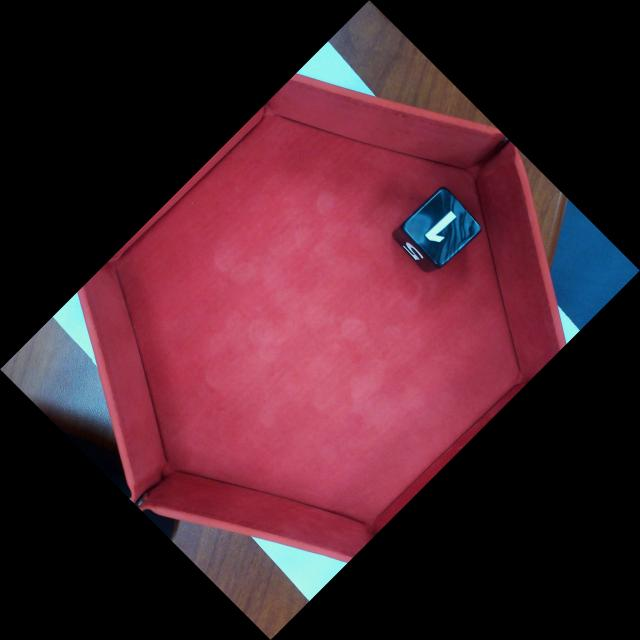dice: (399, 183, 485, 271)
